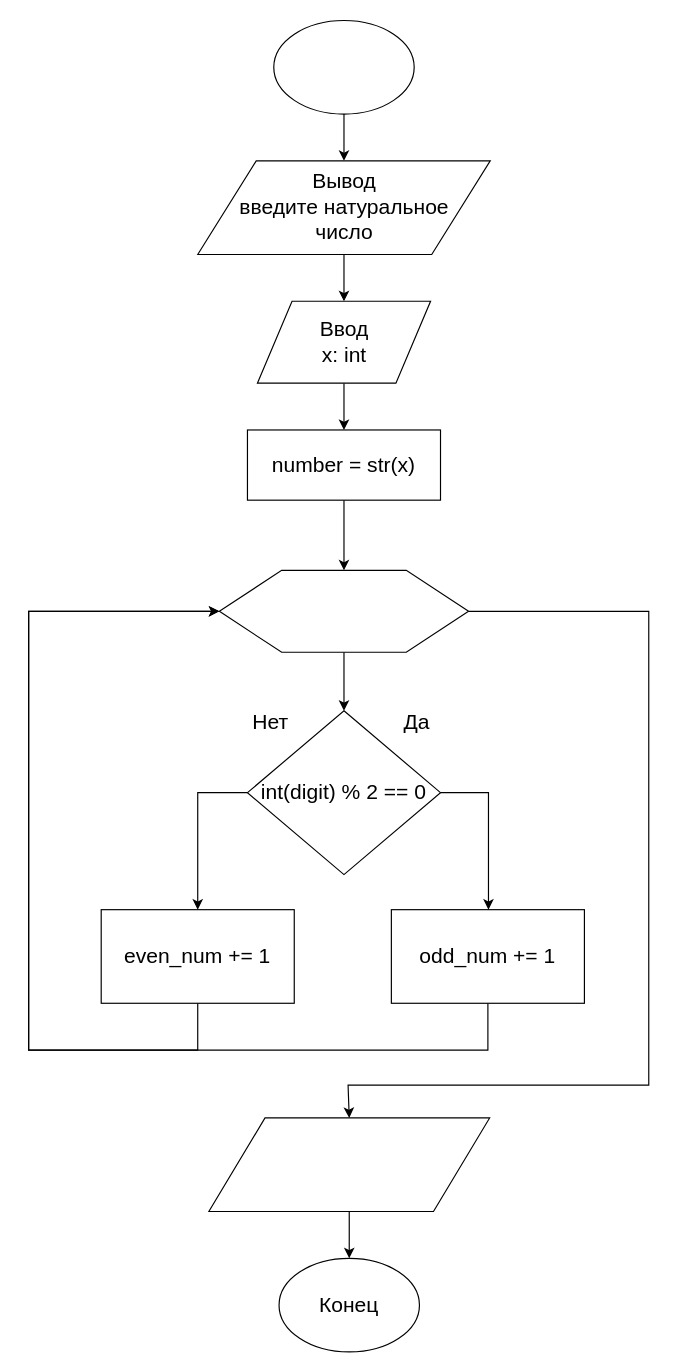
This 679x1372 diagram has some shape labels left out. The shapes that lost their labels are listed below. From the top down, each one's centre as x and y in pixels, then its label:
At point (343, 66): "Начало".
At point (343, 610): "for digit in number".
At point (349, 1164): "Вывод odd, even".
